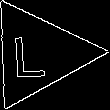L_N: (19, 28, 57, 80)
